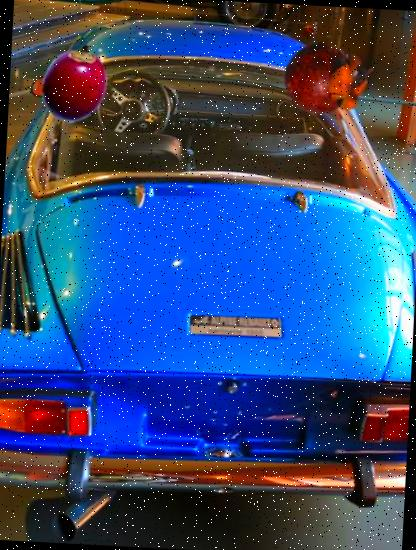Mangostan: (281, 34, 372, 126)
Tamarillo: (33, 42, 117, 126)
